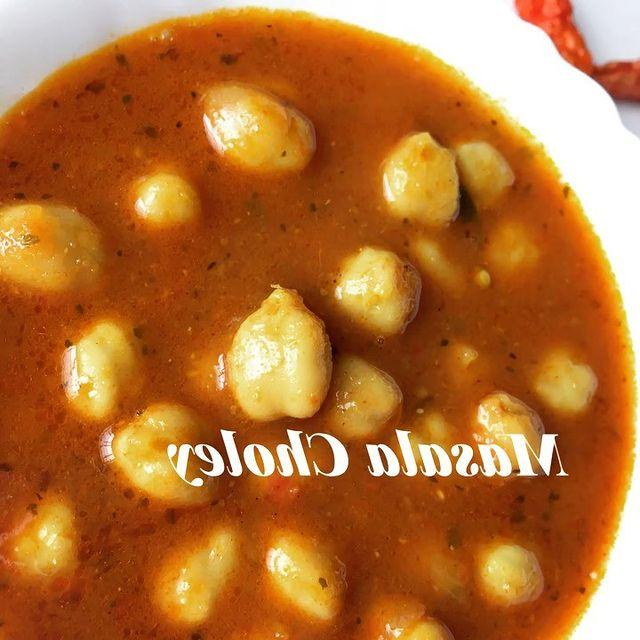Chole: (0, 72, 560, 624)
